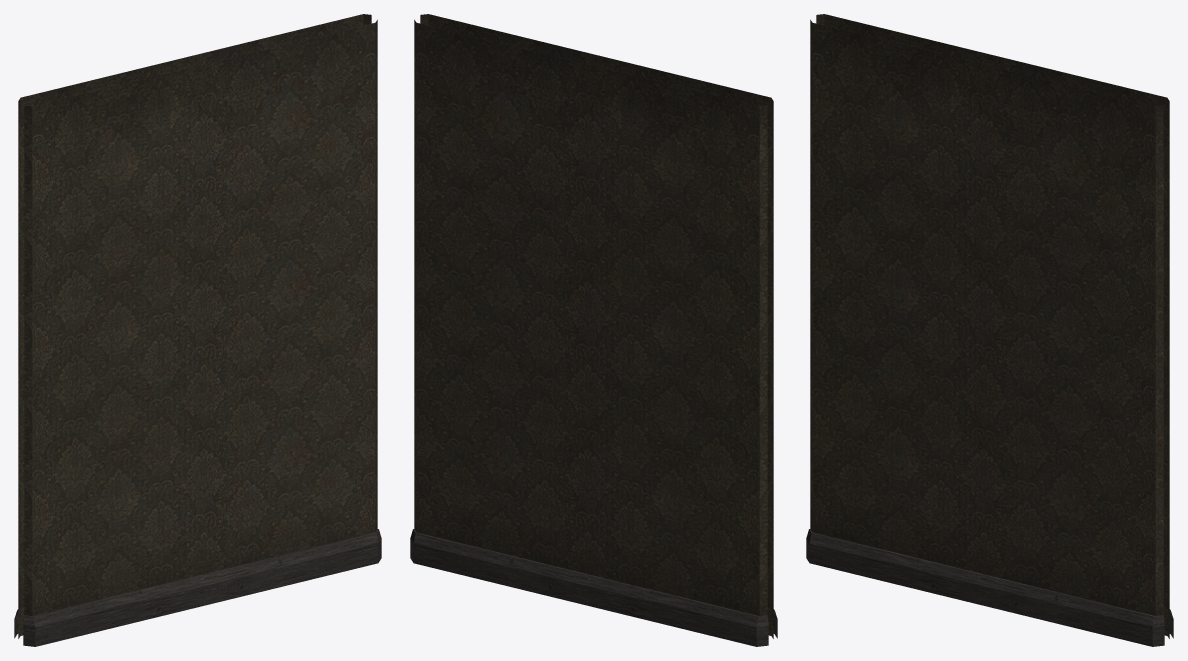
Rendered from wall_1_2_half.obj.
3 renders of one model, left to right at view 1: azimuth 30°, elevation 25°; view 2: azimuth 150°, elevation 25°; view 3: azimuth 330°, elevation 25°, orthographic.
Visible parts, largest first — view 1: wall_1_2_half; view 2: wall_1_2_half; view 3: wall_1_2_half.
Part boxes in pixels (x1,y1,x2,y2): wall_1_2_half: (14, 14, 381, 646); wall_1_2_half: (410, 14, 777, 646); wall_1_2_half: (806, 14, 1173, 646).
Bounding box in the file's own units: 2.09 × 3 × 0.18.
